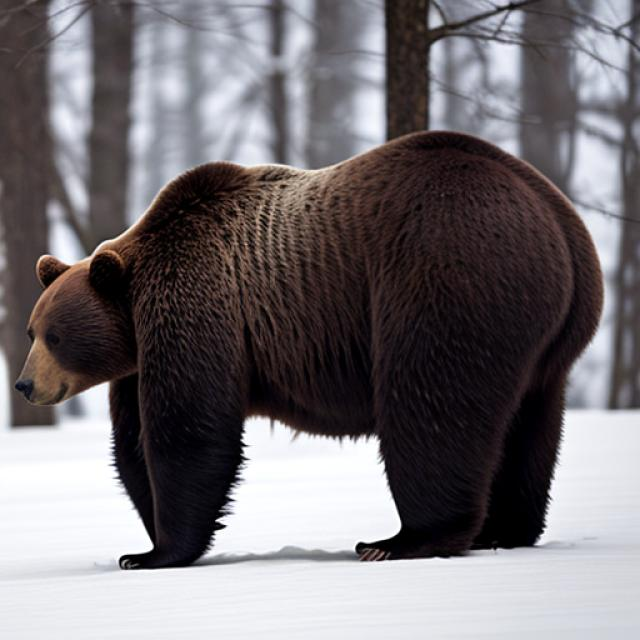bear: (11, 221, 168, 406)
